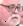without_mask: (1, 1, 23, 26)
